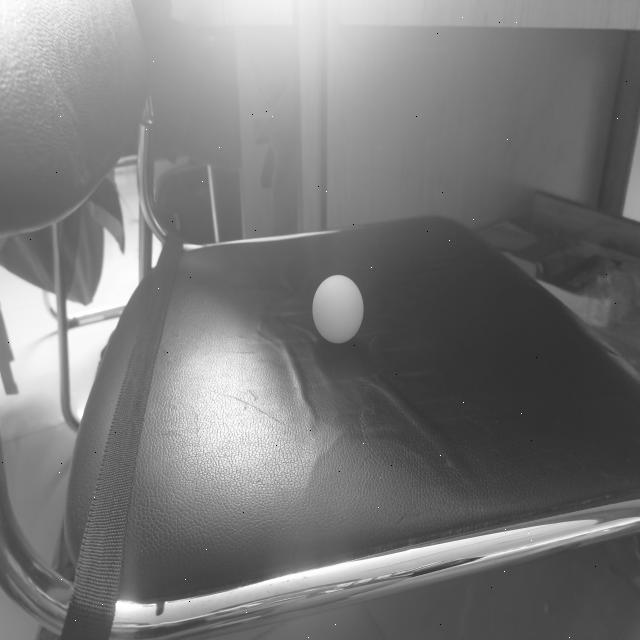ping-pong-ball: (310, 274, 365, 346)
